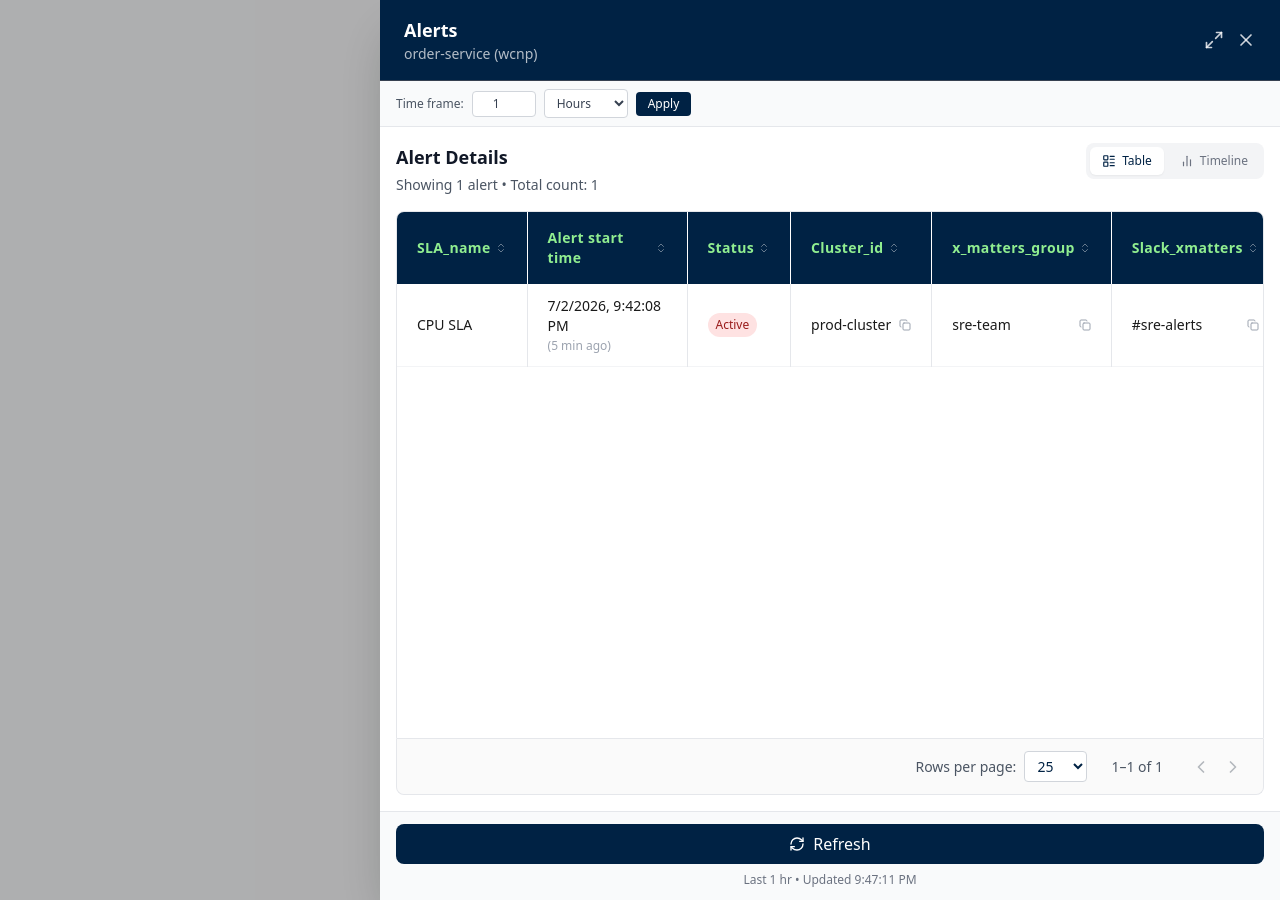
Test: AlertsSidebar › expanded view › opens ExpandedView when expand button is clicked
Click the button titled "Expanded view": point(1214, 40) [1204,30,1224,50]
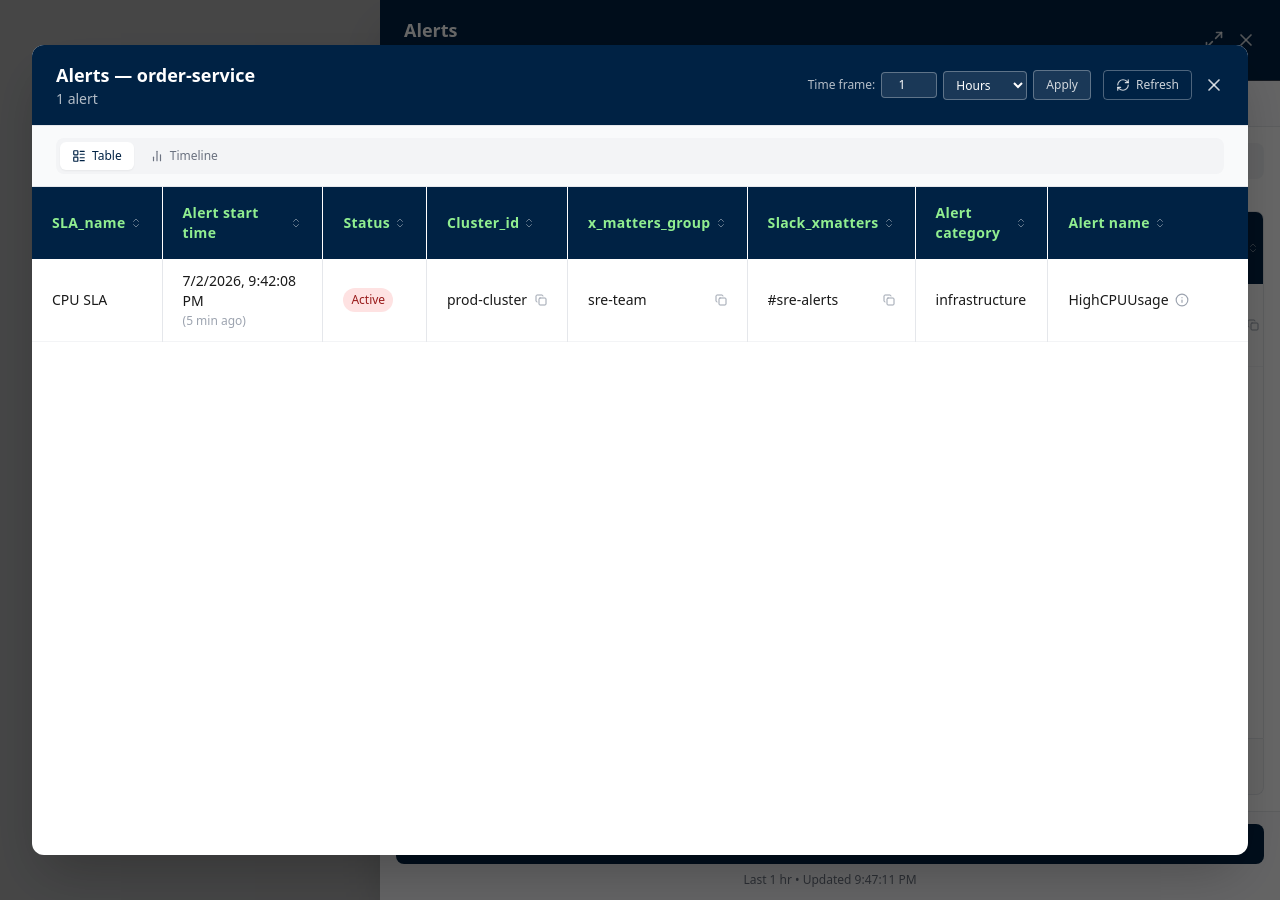
Expected: the heading "Alerts — order-service" is shown, [56,61,255,89]
